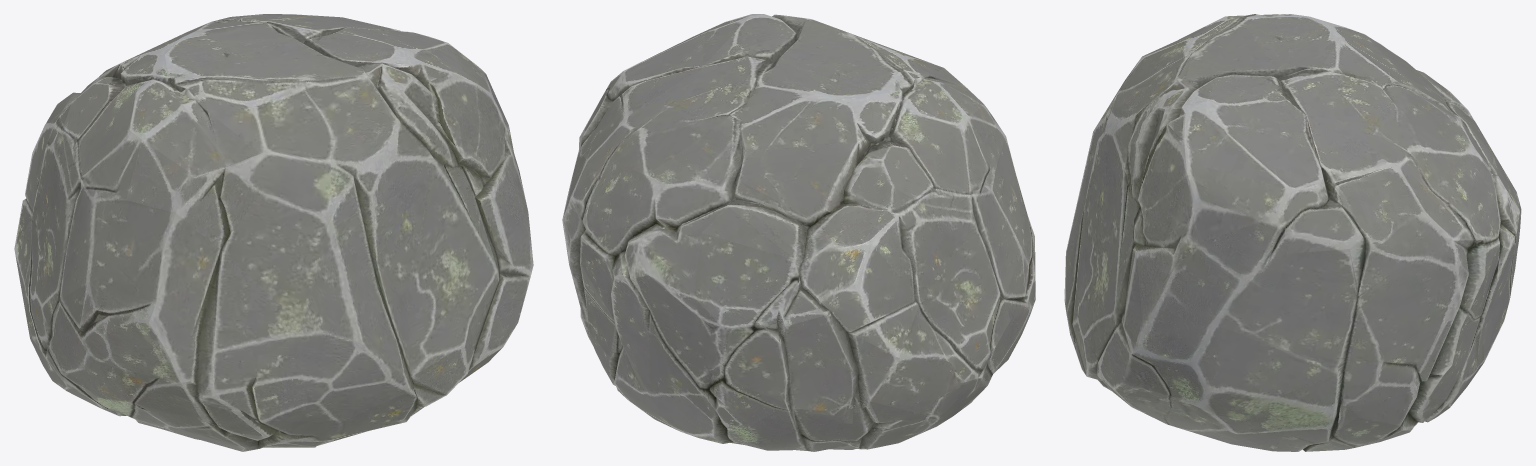
Rendered from boulder.glb.
The picture shows the model from 3 angles, left to right: view 1: azimuth 30°, elevation 25°; view 2: azimuth 150°, elevation 25°; view 3: azimuth 270°, elevation 25°; orthographic projection. The views are drawn at different scales.
Parts seen in each view (by area): view 1: Mesh_0; view 2: Mesh_0; view 3: Mesh_0.
Part boxes in pixels (x1,y1,x2,y2): Mesh_0: (14, 14, 533, 451); Mesh_0: (562, 14, 1035, 451); Mesh_0: (1064, 14, 1521, 451).
Bounding box in the file's own units: 1.9 × 1.49 × 1.81.
1 material, 1 textured.
